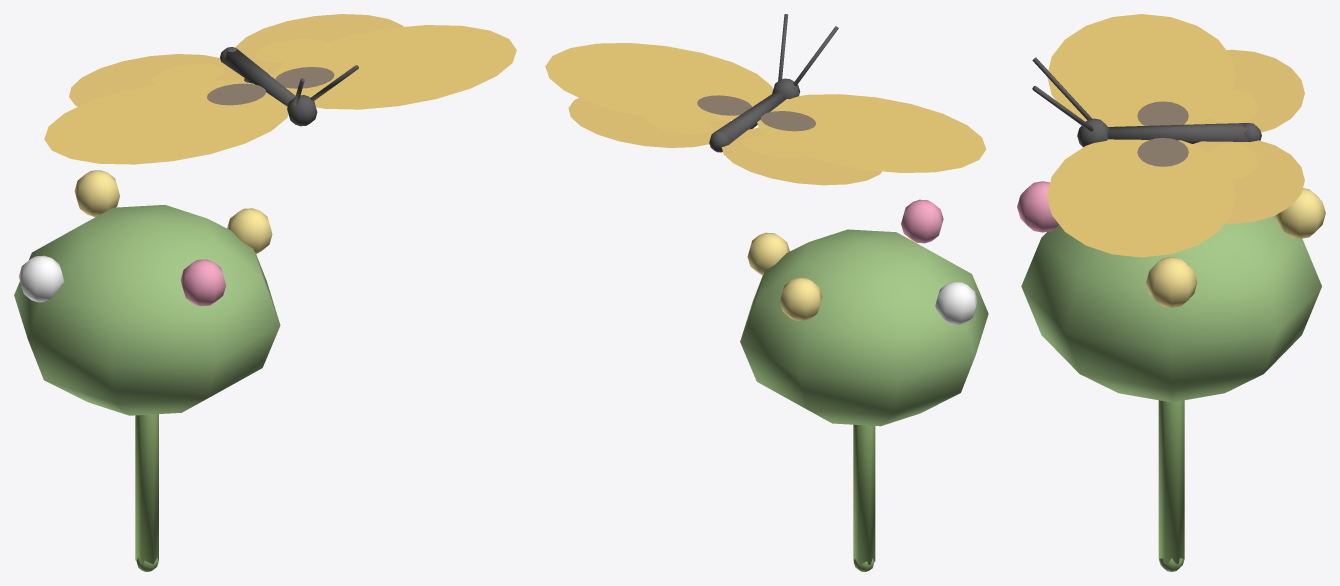
Rendered from yellow-emperor.glb.
3 renders of one model, left to right at view 1: azimuth 30°, elevation 25°; view 2: azimuth 150°, elevation 25°; view 3: azimuth 270°, elevation 25°, orthographic. The views are drawn at different scales.
Parts seen in each view (by area): view 1: e, wingdisc, wingdisc.004, e.007; view 2: e, wingdisc, wingdisc.004, e.007; view 3: e, wingdisc.004, wingdisc, e.007.
Part boxes in pixels (x1,y1,x2,y2): e: [14, 170, 280, 571]; wingdisc: [44, 54, 288, 164]; wingdisc.004: [235, 14, 516, 109]; e.007: [220, 47, 358, 126]; e: [740, 199, 988, 571]; wingdisc: [722, 94, 986, 185]; wingdisc.004: [545, 43, 773, 147]; e.007: [709, 14, 838, 152]; e: [1017, 181, 1325, 571]; wingdisc.004: [1047, 138, 1304, 257]; wingdisc: [1047, 14, 1304, 132]; e.007: [1032, 57, 1261, 147].
Size of the model in its own units: 1.38 by 1.44 by 0.7187.
